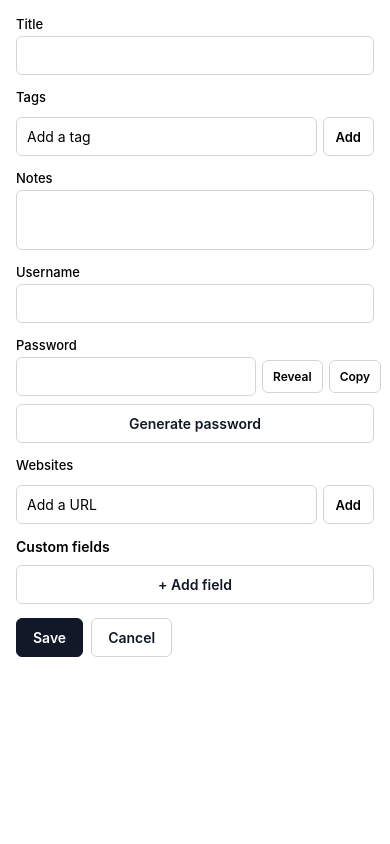
it: ItemForm › surfaces a validation error and does not submit when a required field is missing
This screenshot has width=390, height=844.
Title (required by itemContentSchema) is left blank.
Click the text "Save" at (50, 638), box [33, 629, 66, 646]
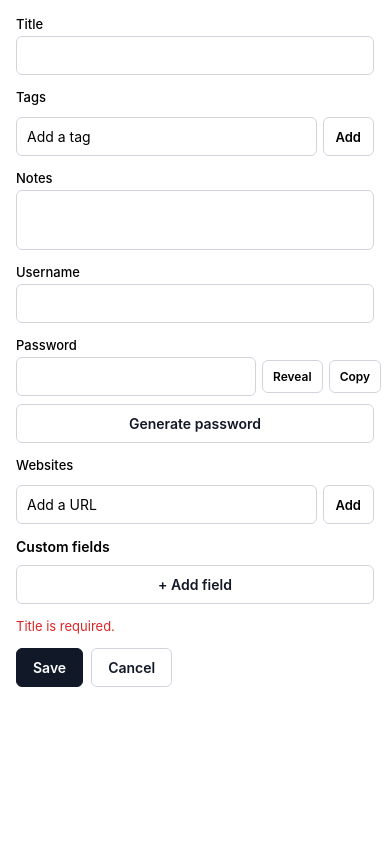
Check: the text "Title is required." is shown, box [16, 618, 115, 634]
